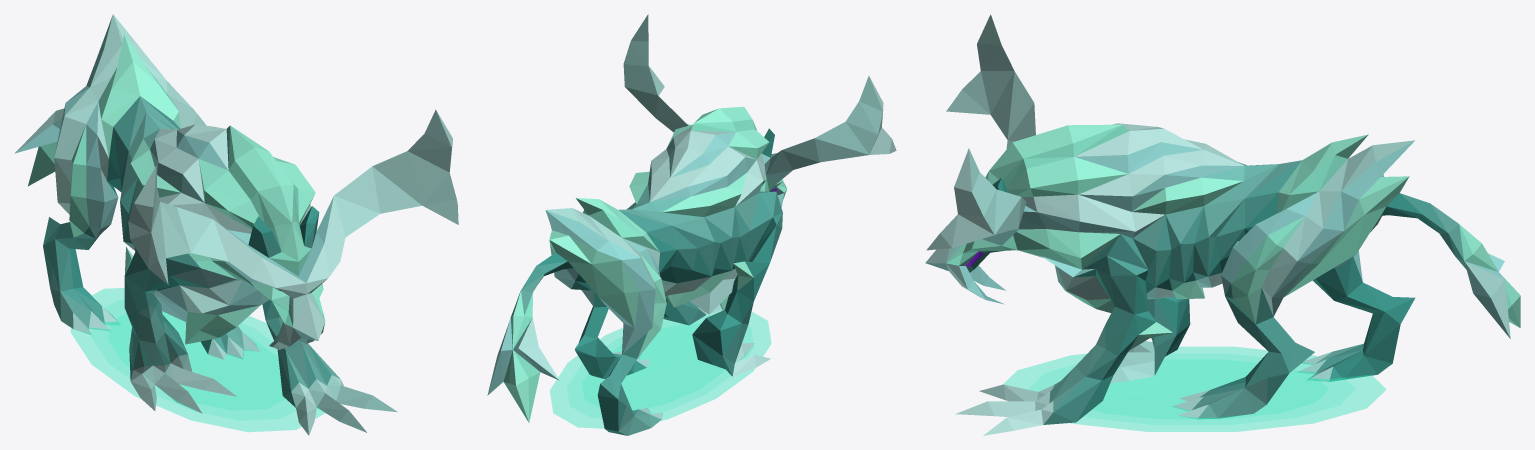
3 views of the same model, side by side, from view 1: azimuth 30°, elevation 25°; view 2: azimuth 150°, elevation 25°; view 3: azimuth 270°, elevation 25° (orthographic). The views are drawn at different scales.
Size of the model in its own units: 363 by 341 by 600.
2 materials, 2 textured.
